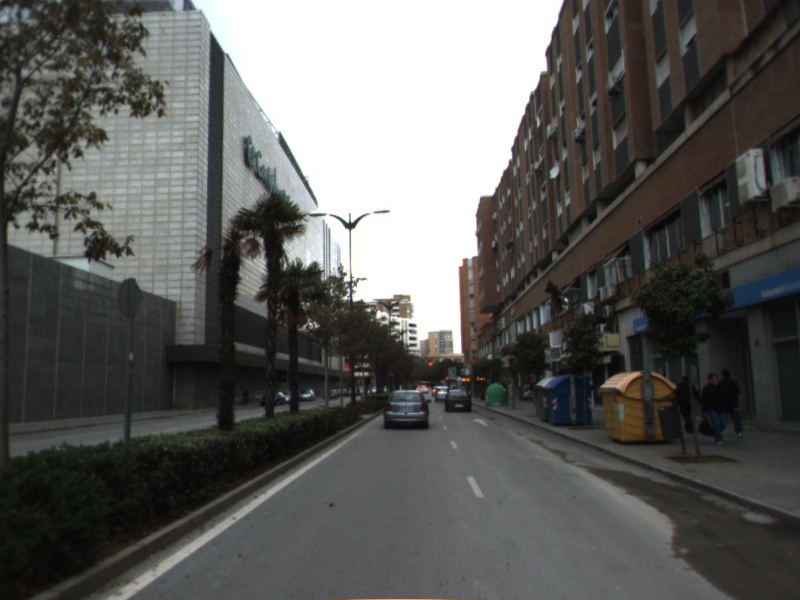STRAIGHT: (471, 416, 491, 428)
